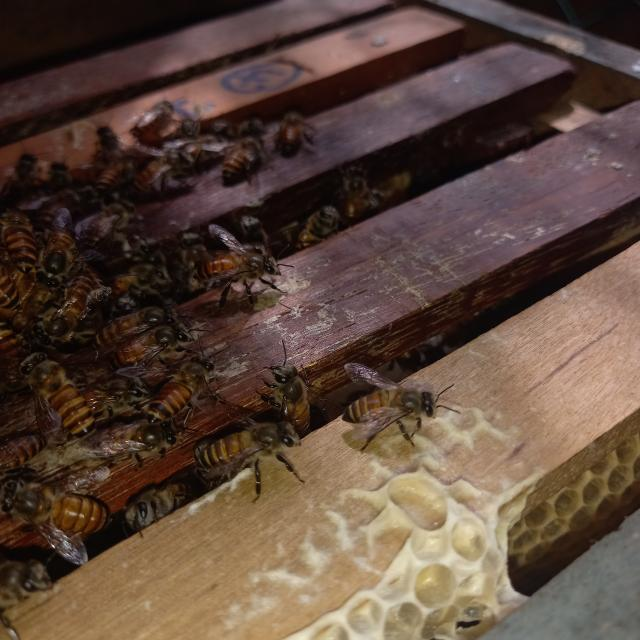honeybee: (8, 468, 116, 547), (338, 354, 445, 430), (18, 360, 95, 449), (198, 412, 296, 472), (190, 239, 293, 290), (261, 358, 331, 416), (145, 356, 226, 405), (103, 414, 179, 456), (3, 216, 40, 280), (60, 272, 93, 340), (97, 331, 187, 355), (49, 219, 91, 270), (91, 309, 177, 330), (339, 168, 373, 207), (228, 138, 258, 182), (278, 113, 308, 155), (308, 207, 342, 238)
